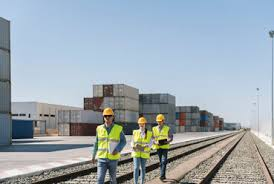helmet: (102, 108, 115, 117), (137, 117, 146, 124), (155, 114, 163, 121)
vest: (96, 126, 120, 160), (133, 131, 151, 159), (152, 127, 170, 149)
